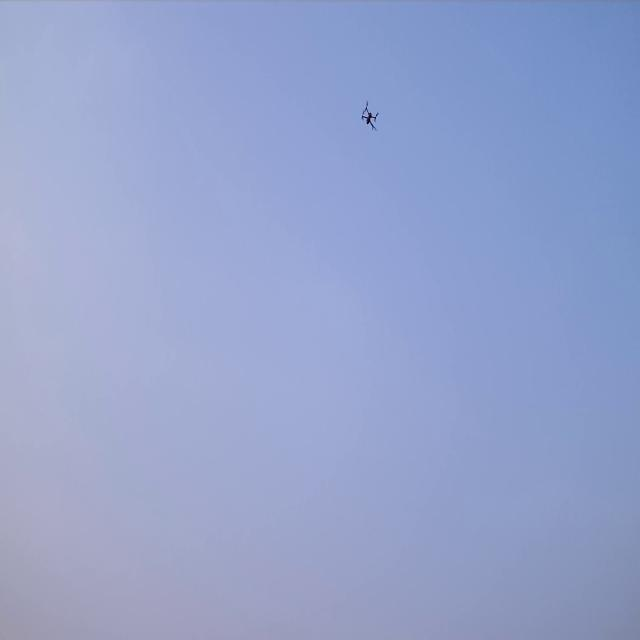UAV: (362, 103, 377, 129)
